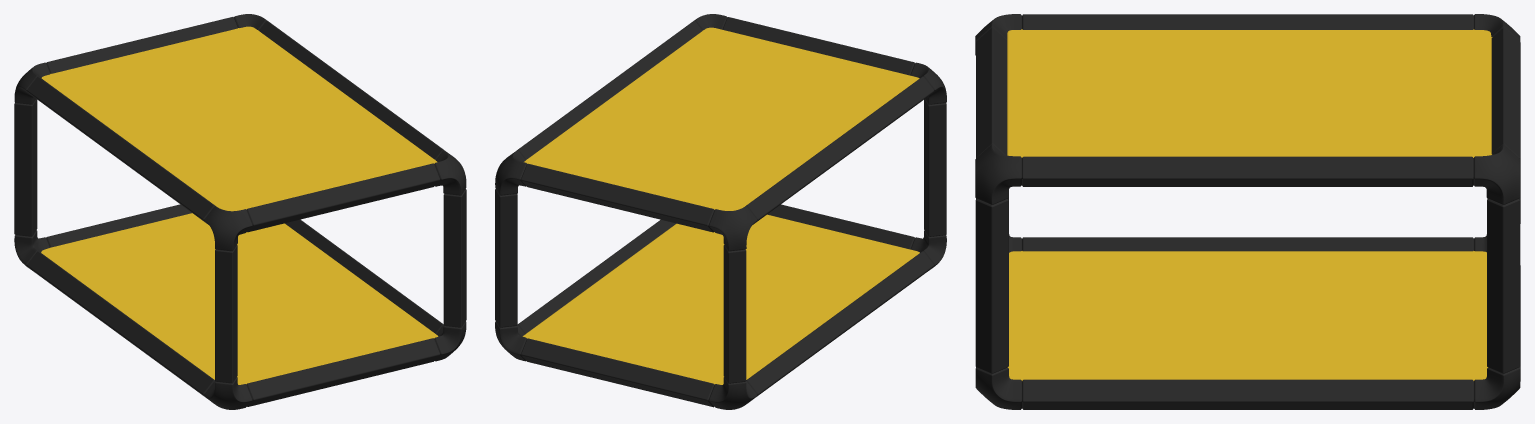
3 renders of one model, left to right at view 1: azimuth 30°, elevation 25°; view 2: azimuth 150°, elevation 25°; view 3: azimuth 270°, elevation 25°, orthographic. The views are drawn at different scales.
Visible parts, largest first — view 1: 229x374x154; view 2: 229x374x154; view 3: 229x374x154.
Part boxes in pixels (x1,y1,x2,y2): 229x374x154: (14,14,466,409); 229x374x154: (495,14,946,409); 229x374x154: (975,14,1520,409).
Size of the model in its own units: 0.3067 by 0.2316 by 0.4513.
